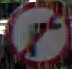Don't turn right: (3, 0, 68, 68)
